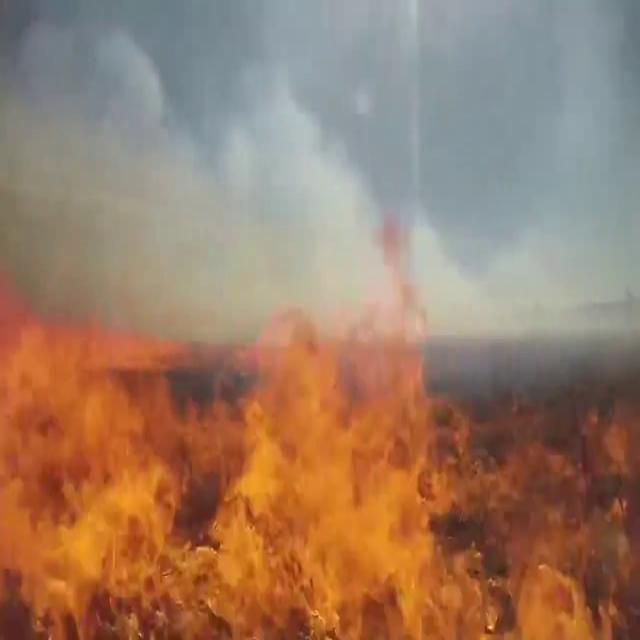Fire: (0, 222, 632, 636)
